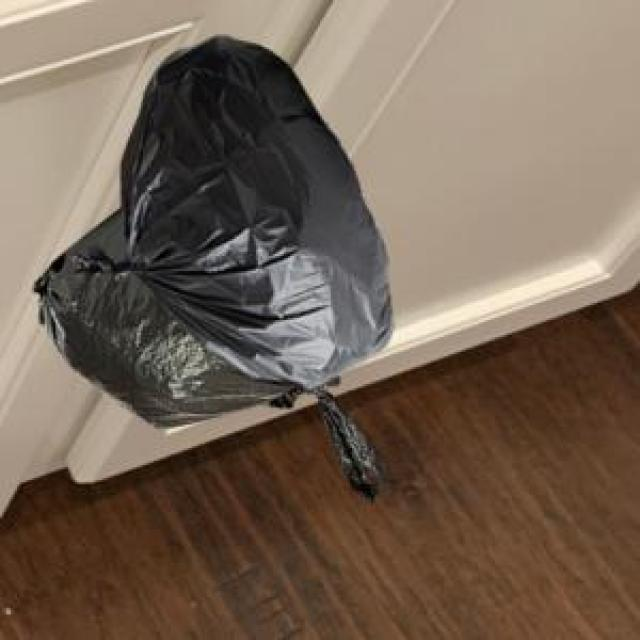Vinyl: (42, 200, 388, 497), (126, 43, 412, 380)
